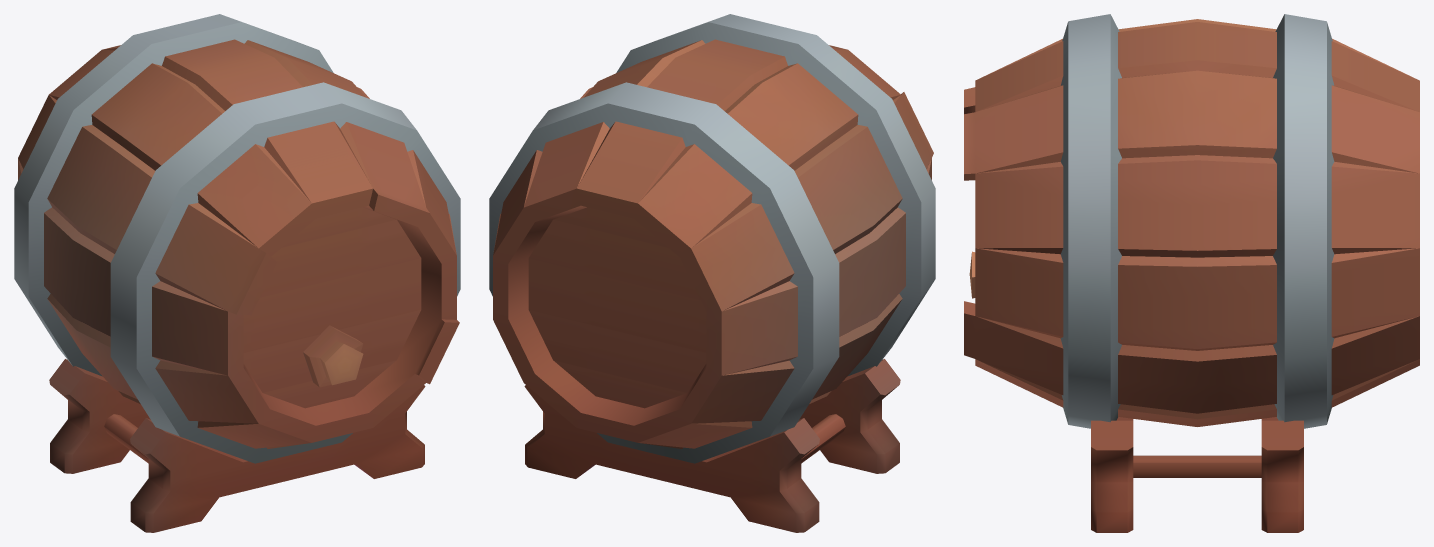
The model's file is keg.glb.
3 renders of one model, left to right at view 1: azimuth 30°, elevation 25°; view 2: azimuth 150°, elevation 25°; view 3: azimuth 270°, elevation 25°, orthographic. The views are drawn at different scales.
Visible parts, largest first — view 1: keg; view 2: keg; view 3: keg.
Boxes of the visible parts, x1,y1,x2,y2 form: keg: [14, 14, 460, 532]; keg: [489, 14, 935, 532]; keg: [964, 14, 1419, 532].
Size of the model in its own units: 1.8 by 2.05 by 2.
1 material, 1 textured.
